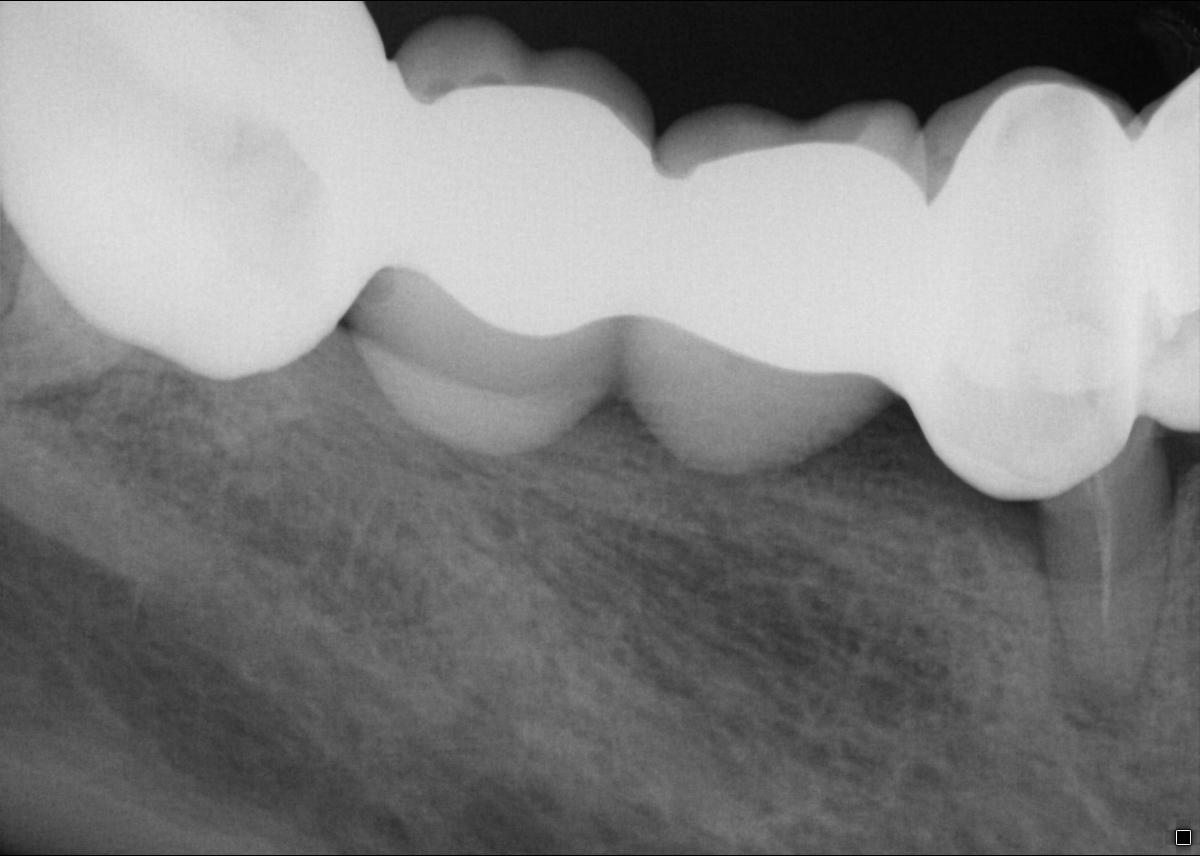Furcation Involvement: (1050, 625, 1158, 737)
